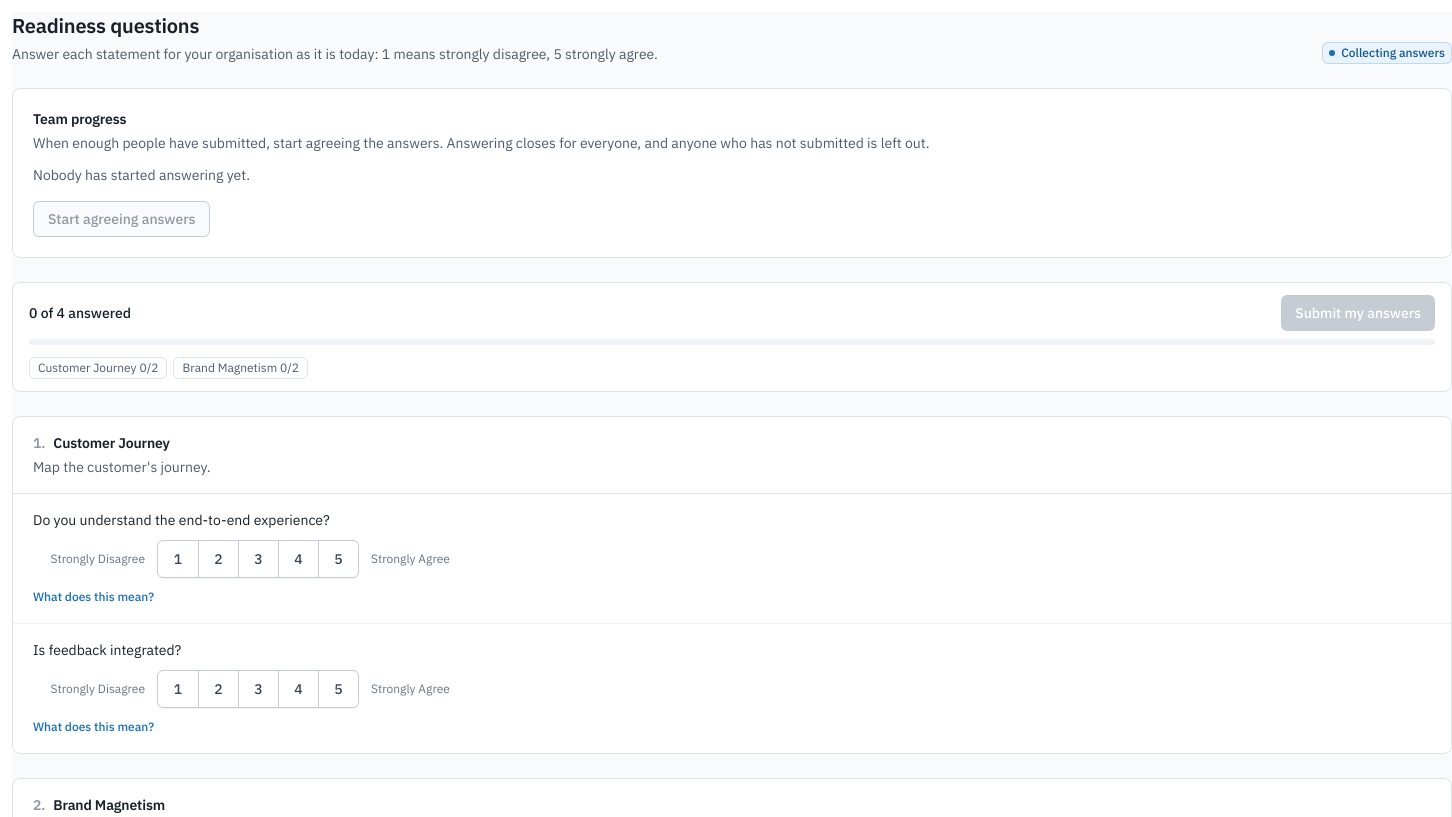
Test: QuestionnairePage › undoes an answer whose save failed, so it is neither shown nor counted
Click the 1st radio button labelled "4" at (298, 559), box x1=278 y1=541 x2=318 y2=577
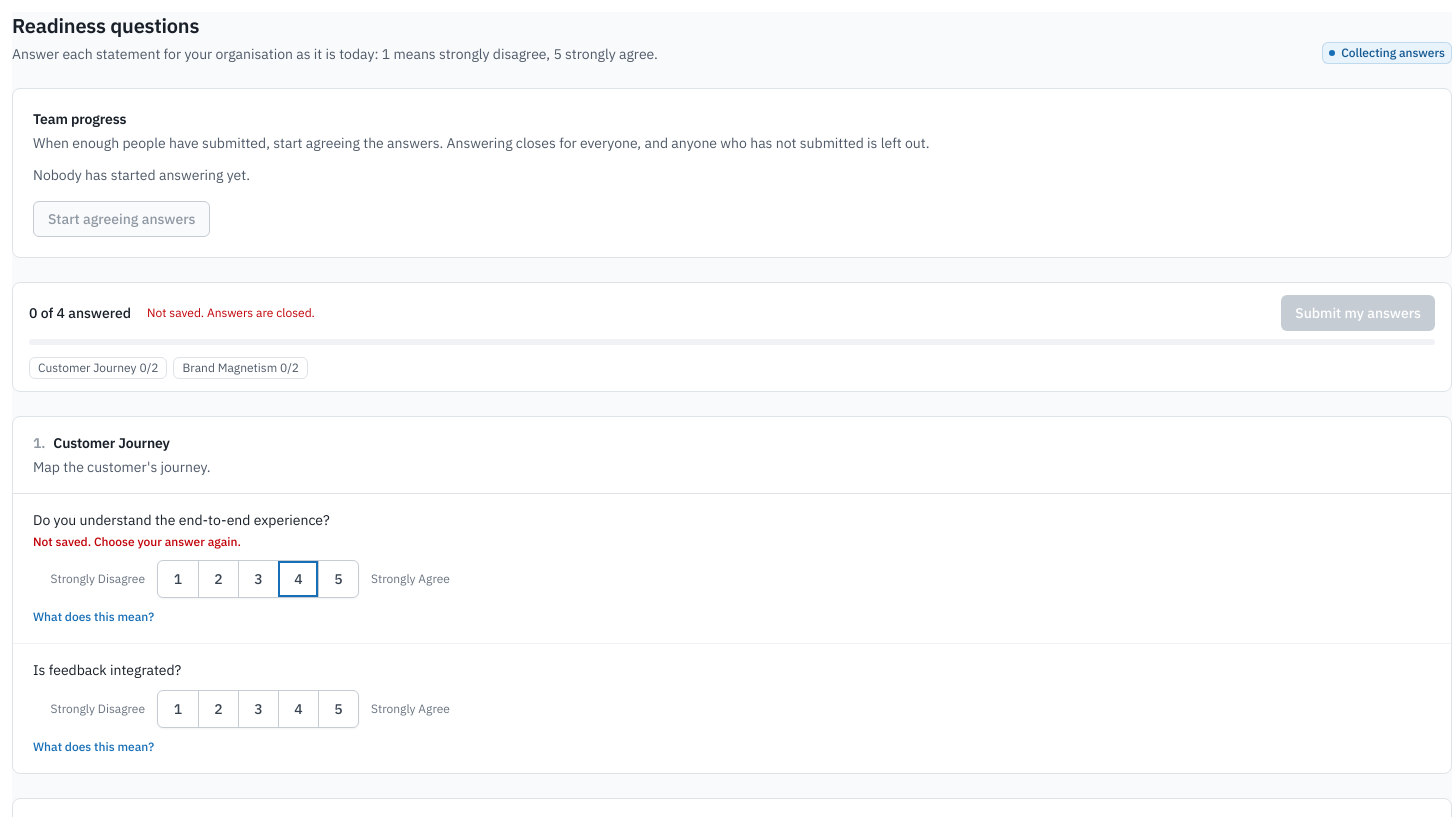
Expected: the radio button labelled "4" below "Not saved. Choose your answer again." is not checked, x1=278 y1=561 x2=318 y2=597
Expected: the message named "Save status" shows "Not saved", x1=147 y1=305 x2=315 y2=320
